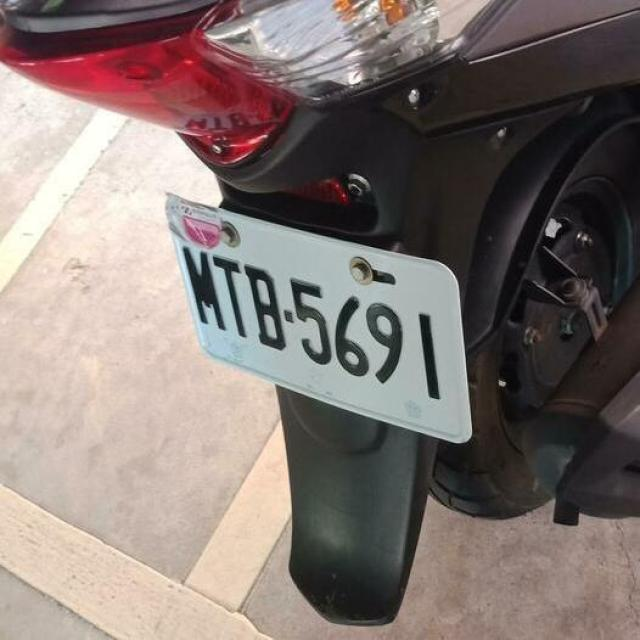W: (163, 182, 483, 462)
